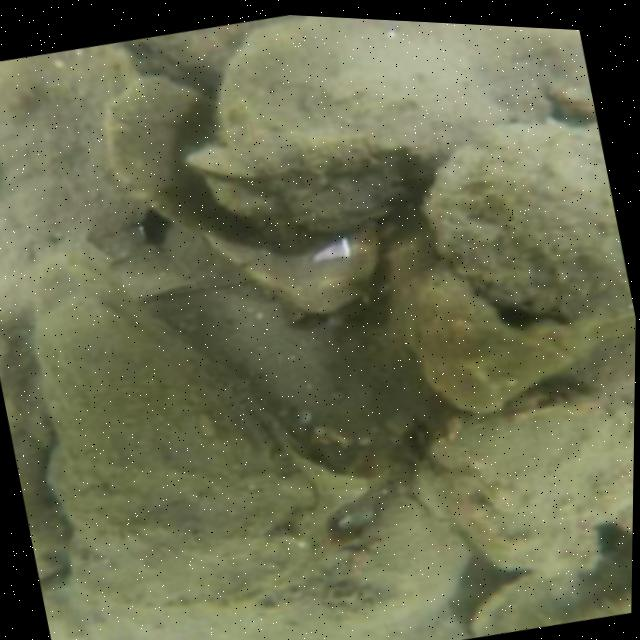Oyster-Closed: (34, 260, 312, 609)
Oyster-Indeterminate: (104, 69, 383, 317), (216, 16, 576, 175), (425, 121, 630, 336), (446, 336, 635, 567), (405, 273, 571, 400), (316, 493, 463, 624), (211, 145, 404, 237)
